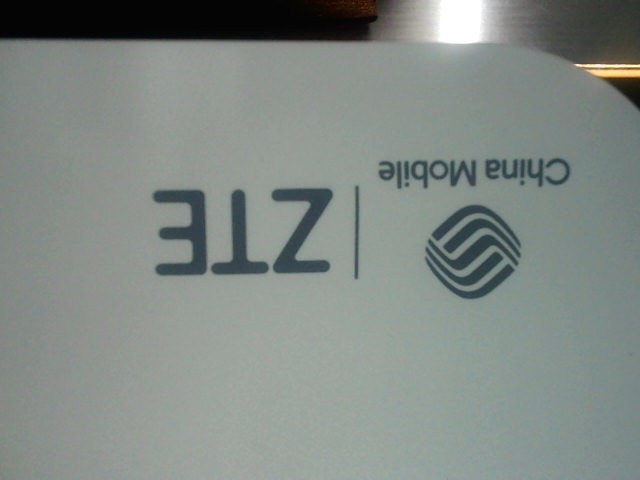AL_ZTEChinaMobile: (142, 147, 596, 303)
